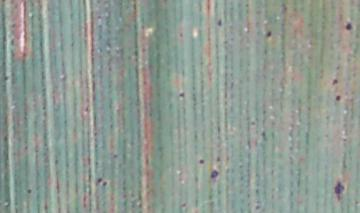tarspot: (333, 178, 344, 202), (341, 151, 348, 170), (260, 129, 269, 143), (344, 20, 354, 32), (209, 169, 219, 180), (215, 18, 223, 29), (179, 201, 188, 210), (178, 31, 186, 40), (249, 119, 257, 128), (131, 1, 137, 13), (167, 101, 175, 110), (265, 29, 272, 39), (83, 104, 90, 114), (334, 94, 341, 103), (193, 174, 200, 183), (178, 91, 185, 99), (25, 187, 33, 194), (3, 74, 10, 82), (305, 104, 313, 111), (96, 12, 102, 21), (147, 110, 153, 119), (323, 114, 332, 120), (9, 36, 14, 46), (331, 79, 338, 86), (20, 51, 27, 58), (198, 157, 204, 165), (215, 155, 221, 163), (101, 180, 109, 186), (10, 22, 16, 30), (333, 64, 341, 70), (97, 21, 103, 29), (97, 176, 103, 183), (111, 152, 118, 158), (140, 46, 146, 52), (141, 79, 147, 85), (95, 1, 99, 4)
